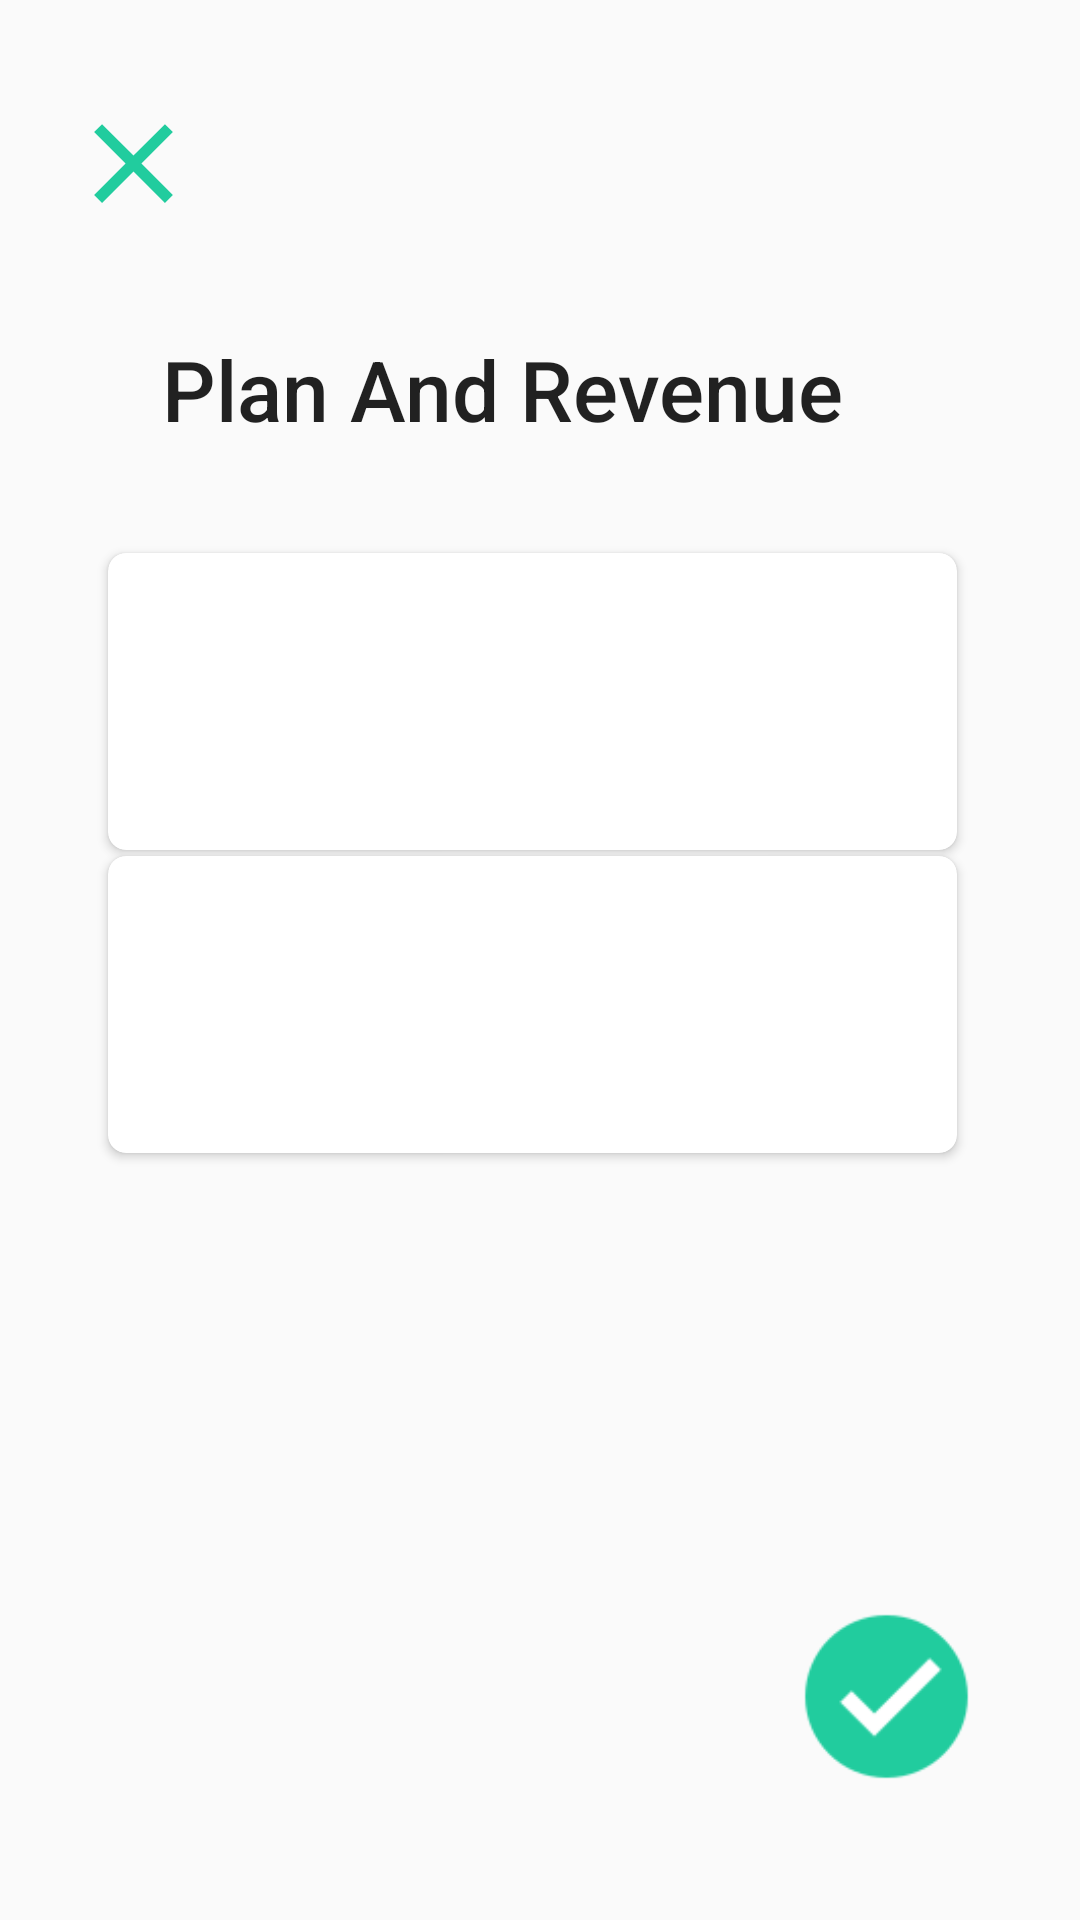

Point at icon controls on the screen. Image size 1080w x 1920h, points as [x,y].
close: [133,163]
